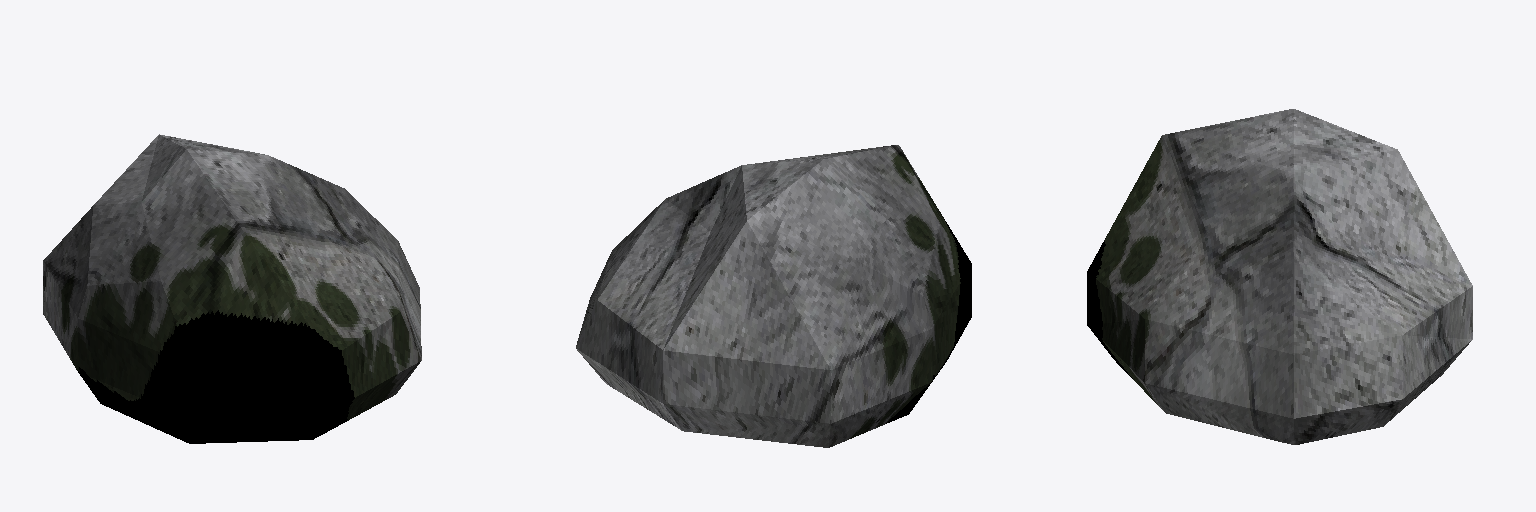
3 views of the same model, side by side, from view 1: azimuth 30°, elevation 25°; view 2: azimuth 150°, elevation 25°; view 3: azimuth 270°, elevation 25° (orthographic).
Visible parts, largest first — view 1: Rock03; view 2: Rock03; view 3: Rock03.
Part boxes in pixels (left/top/right/bottom): Rock03: left=43, top=134, right=421, bottom=443; Rock03: left=576, top=145, right=971, bottom=447; Rock03: left=1087, top=109, right=1472, bottom=444.
Size of the model in its own units: 2.14 by 1.4 by 2.09.
1 materials, 1 textured.